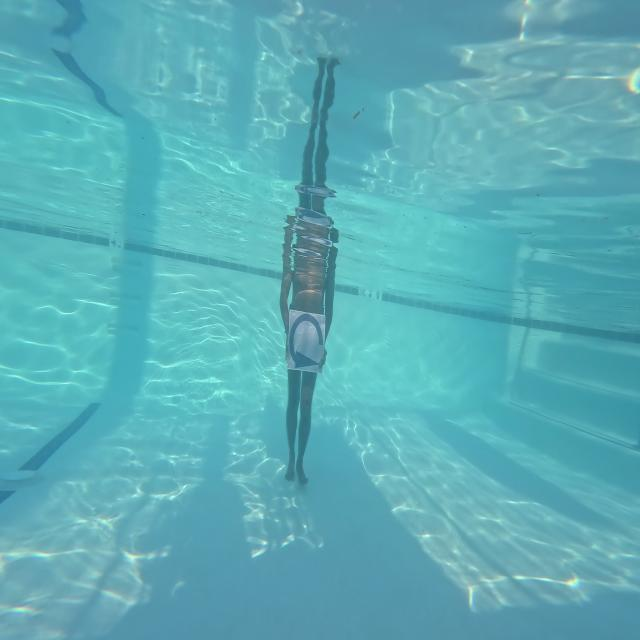blue_side: (289, 304, 331, 378)
